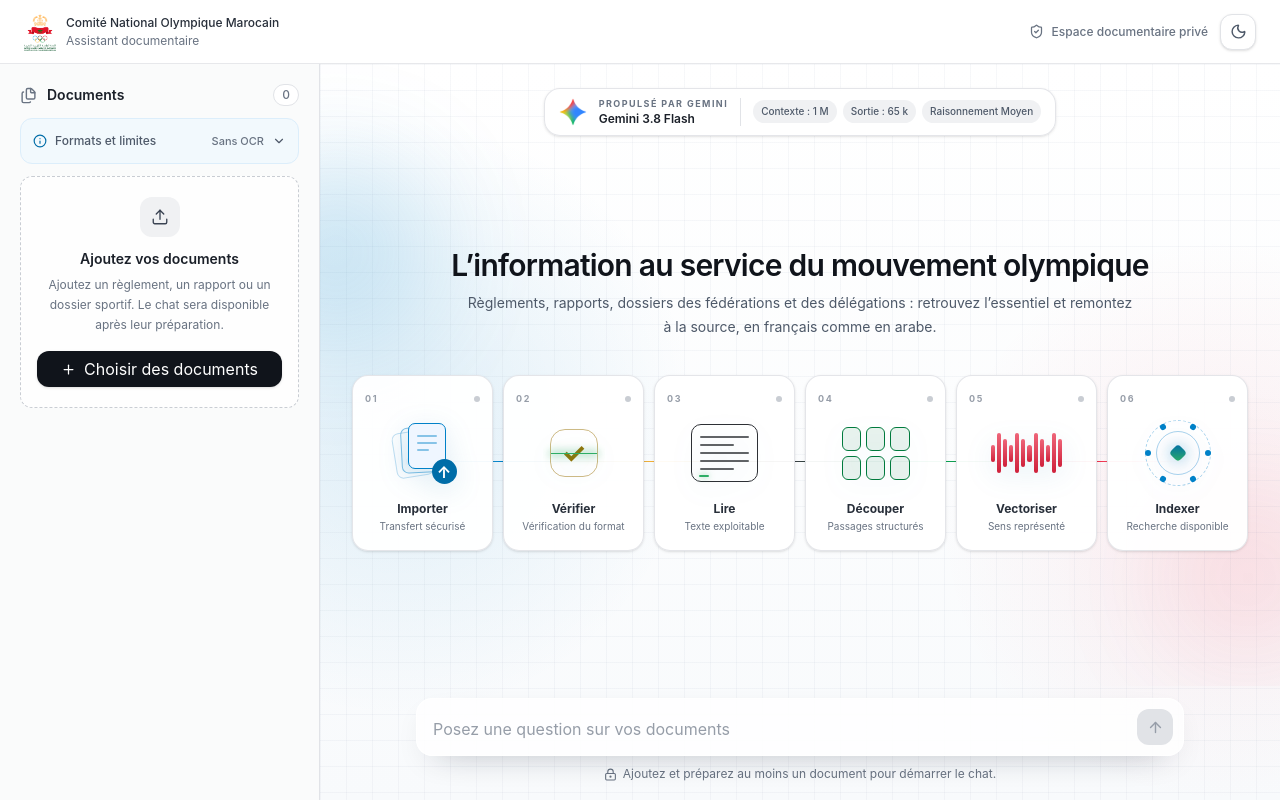
Test case: renders the initial document workspace
Check: the element named "CNOM · Assistant documentaire" is shown, box [24, 14, 279, 50]
Check: the heading "Ajoutez vos documents" is shown, box [80, 250, 239, 267]
Click the text "Formats et limites". click: click(106, 141)
box: [55, 133, 156, 149]
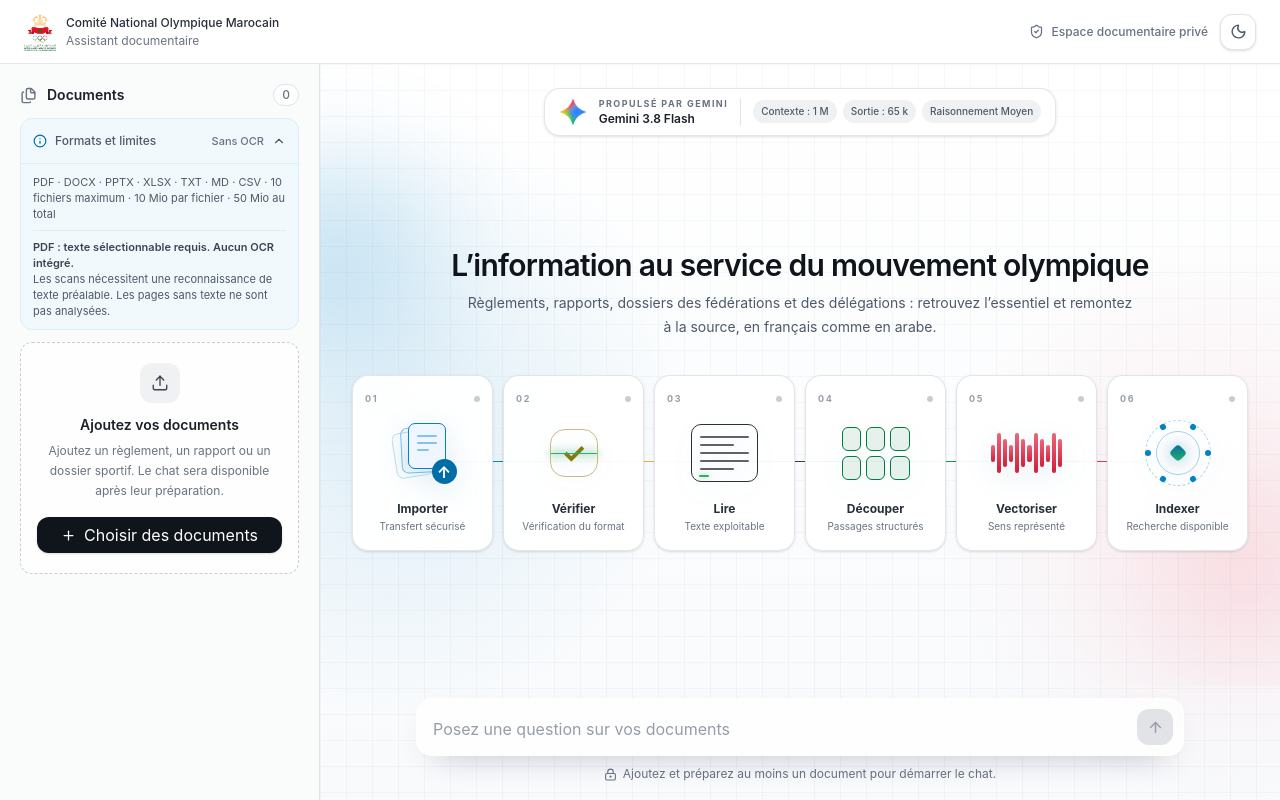
Check: the text "PDF · DOCX · PPTX · XLSX · TXT · MD · CSV · 10 fichiers maximum · 10 Mio par fichier · 50 Mio au total" is shown, box [33, 175, 285, 221]
Check: the text "PDF : texte sélectionnable requis. Aucun OCR intégré." is shown, box [33, 239, 286, 271]
Check: the text "Les scans nécessitent une reconnaissance de texte préalable" is shown, box [33, 272, 272, 318]
